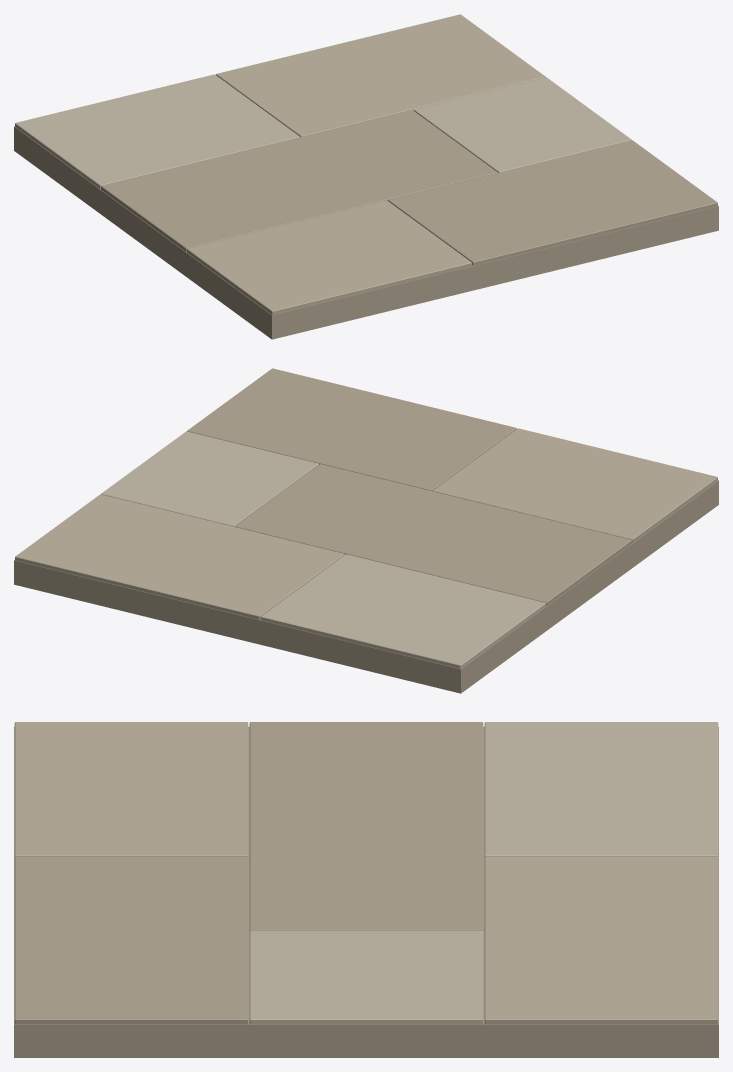
The model's file is paving_tile_b.glb.
3 renders of one model, top to bottom at view 1: azimuth 30°, elevation 25°; view 2: azimuth 150°, elevation 25°; view 3: azimuth 270°, elevation 25°, orthographic. The views are drawn at different scales.
Parts seen in each view (by area): view 1: paving_tile_b.001; view 2: paving_tile_b.001; view 3: paving_tile_b.001.
Boxes of the visible parts, x1,y1,x2,y2 form: paving_tile_b.001: (14, 14, 718, 339); paving_tile_b.001: (14, 368, 718, 693); paving_tile_b.001: (14, 722, 718, 1057).
Bounding box in the file's own units: 1 × 0.06 × 1.
